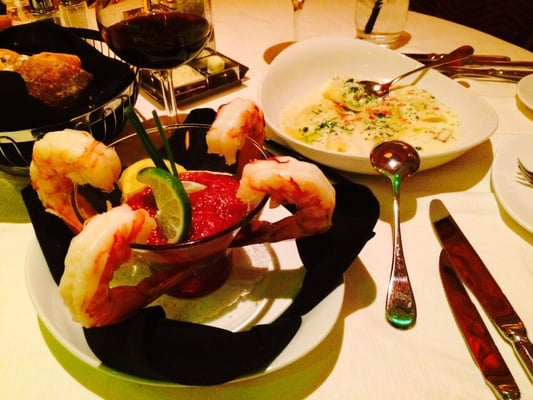pizza: (354, 0, 412, 48)
salad: (371, 142, 421, 330)
sandwich: (427, 198, 533, 399), (371, 145, 420, 331)
sushi: (126, 168, 271, 274)
